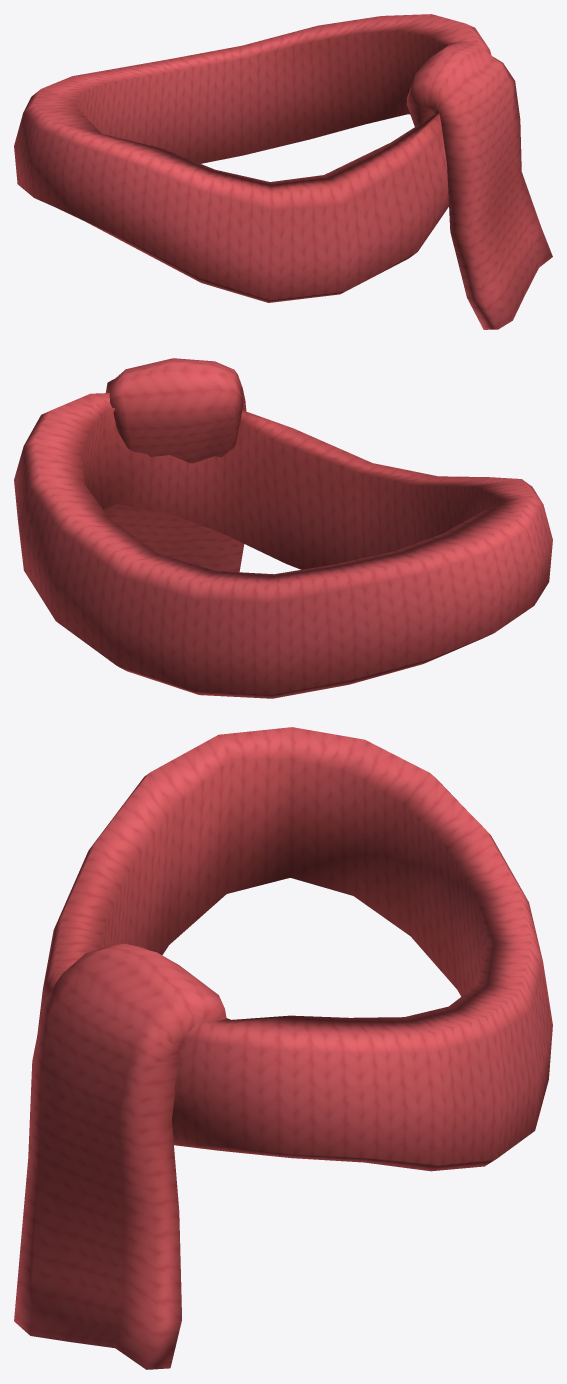
Rendered from Scarf.fbx.
3 renders of one model, top to bottom at view 1: azimuth 30°, elevation 25°; view 2: azimuth 150°, elevation 25°; view 3: azimuth 270°, elevation 25°, orthographic. The views are drawn at different scales.
Visible parts, largest first — view 1: Scarf_A; view 2: Scarf_A; view 3: Scarf_A.
Part boxes in pixels (x1,y1,x2,y2): Scarf_A: [14, 14, 552, 329]; Scarf_A: [14, 358, 552, 698]; Scarf_A: [14, 727, 552, 1369].
Bounding box in the file's own units: 57.02 × 28.8 × 37.94.
Materials: 1 (1 with a texture image).
